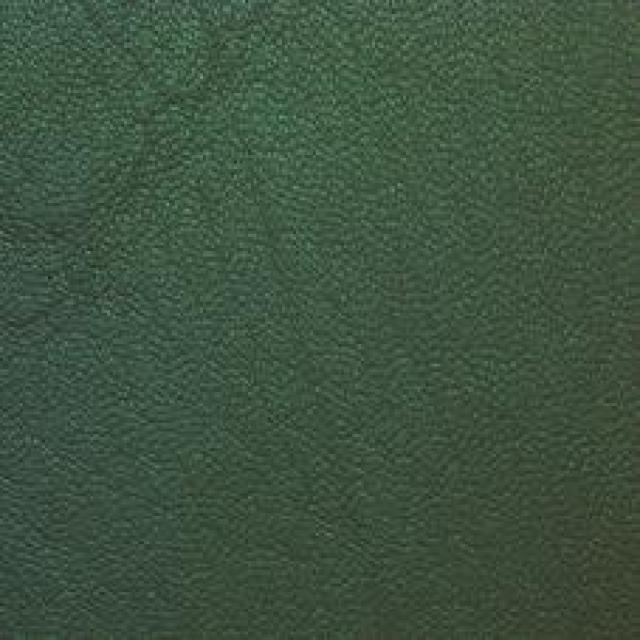Growth Marks: (28, 136, 216, 367), (139, 15, 276, 192)
